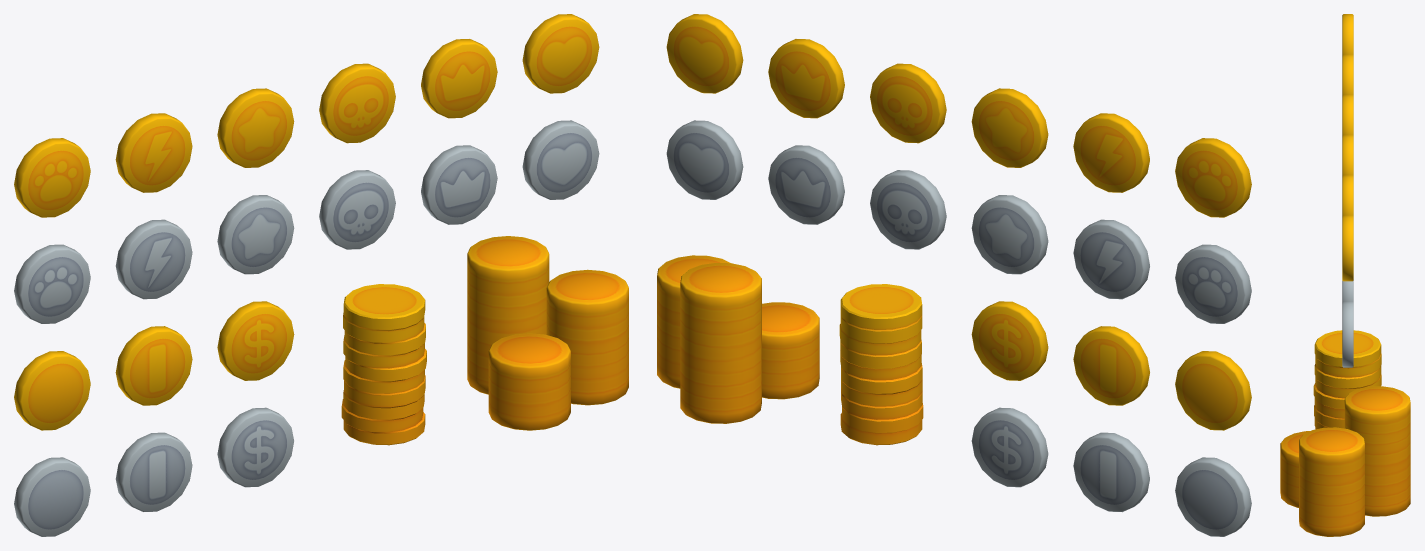
Rendered from CoinPack.fbx.
The picture shows the model from 3 angles, left to right: view 1: azimuth 30°, elevation 25°; view 2: azimuth 150°, elevation 25°; view 3: azimuth 270°, elevation 25°; orthographic projection. The views are drawn at different scales.
Parts seen in each view (by area): view 1: Coins_02, Coins_01, Coin_Dollar_Gold, Coin_Pet_Gold, Coin_Skull_Gold, Coin_Crown_Silver, Coin_One_Gold, Coin_Gold, Coin_Thunder_Gold, Coin_Star_Gold, Coin_Silver, Coin_Skull_Silver (+8 smaller); view 2: Coins_02, Coins_01, Coin_One_Gold, Coin_Star_Gold, Coin_Skull_Silver, Coin_Crown_Silver, Coin_Heart_Gold, Coin_Pet_Silver, Coin_Thunder_Gold, Coin_Pet_Gold, Coin_Dollar_Gold, Coin_Silver (+8 smaller); view 3: Coins_02, Coins_01, Coin_Heart_Gold, Coin_Heart_Silver, Coin_Skull_Gold, Coin_Crown_Gold, Coin_Star_Gold, Coin_Thunder_Gold, Coin_Pet_Gold, Coin_Crown_Silver.
Boxes of the visible parts, box(x1,y1,x2,y2) form: Coins_02: box(467, 236, 628, 430); Coins_01: box(341, 284, 426, 445); Coin_Dollar_Gold: box(217, 301, 294, 380); Coin_Pet_Gold: box(14, 138, 90, 217); Coin_Skull_Gold: box(319, 63, 395, 143); Coin_Crown_Silver: box(421, 145, 497, 224); Coin_One_Gold: box(115, 326, 192, 405); Coin_Gold: box(14, 351, 90, 430); Coin_Thunder_Gold: box(115, 113, 192, 192); Coin_Star_Gold: box(217, 88, 294, 167); Coin_Silver: box(14, 457, 90, 536); Coin_Skull_Silver: box(319, 170, 395, 249); Coins_02: box(657, 255, 819, 423); Coins_01: box(839, 284, 923, 445); Coin_One_Gold: box(1073, 326, 1149, 405); Coin_Star_Gold: box(971, 88, 1048, 167); Coin_Skull_Silver: box(870, 170, 946, 249); Coin_Crown_Silver: box(768, 145, 844, 224); Coin_Heart_Gold: box(666, 14, 743, 93); Coin_Pet_Silver: box(1175, 244, 1251, 323); Coin_Thunder_Gold: box(1073, 113, 1149, 192); Coin_Pet_Gold: box(1175, 138, 1251, 217); Coin_Dollar_Gold: box(971, 301, 1048, 380); Coin_Silver: box(1175, 457, 1251, 536); Coins_02: box(1280, 386, 1410, 536); Coins_01: box(1313, 330, 1381, 429); Coin_Heart_Gold: box(1342, 215, 1353, 281); Coin_Heart_Silver: box(1342, 301, 1353, 367); Coin_Skull_Gold: box(1342, 134, 1353, 175); Coin_Crown_Gold: box(1342, 174, 1353, 215); Coin_Star_Gold: box(1342, 94, 1353, 135); Coin_Thunder_Gold: box(1342, 54, 1353, 94); Coin_Pet_Gold: box(1342, 14, 1353, 54); Coin_Crown_Silver: box(1342, 281, 1353, 301).
Size of the model in its own units: 586 by 370 by 137.
